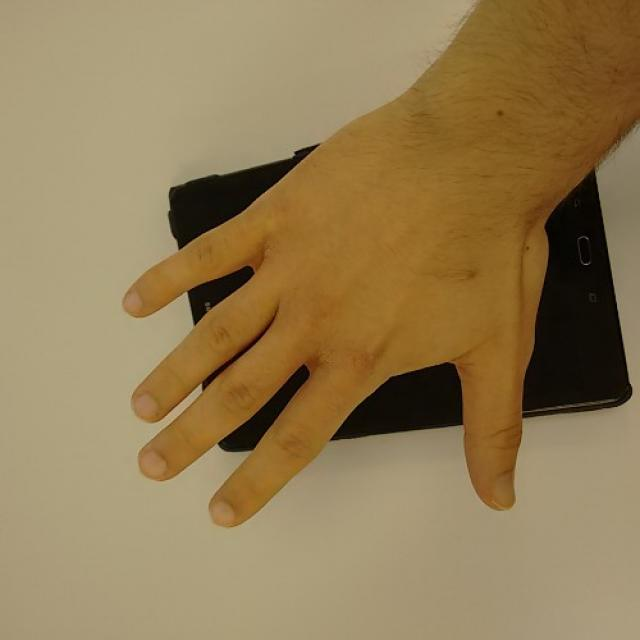paper: (120, 127, 521, 530)
